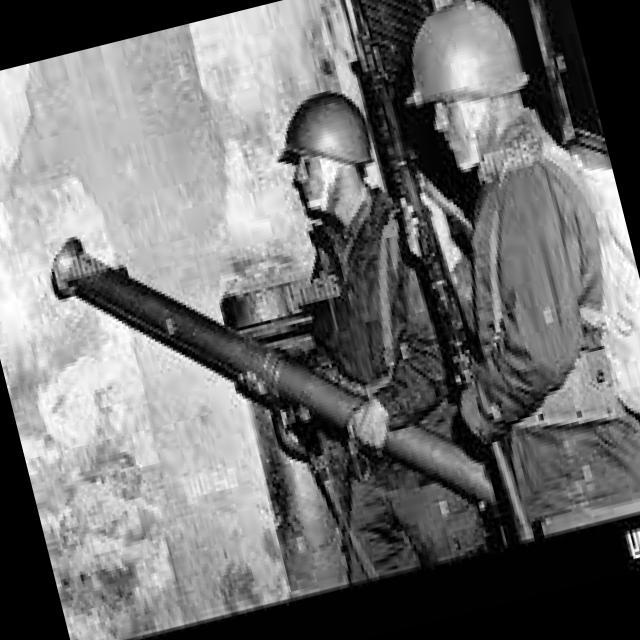rocket: (41, 147, 509, 604)
